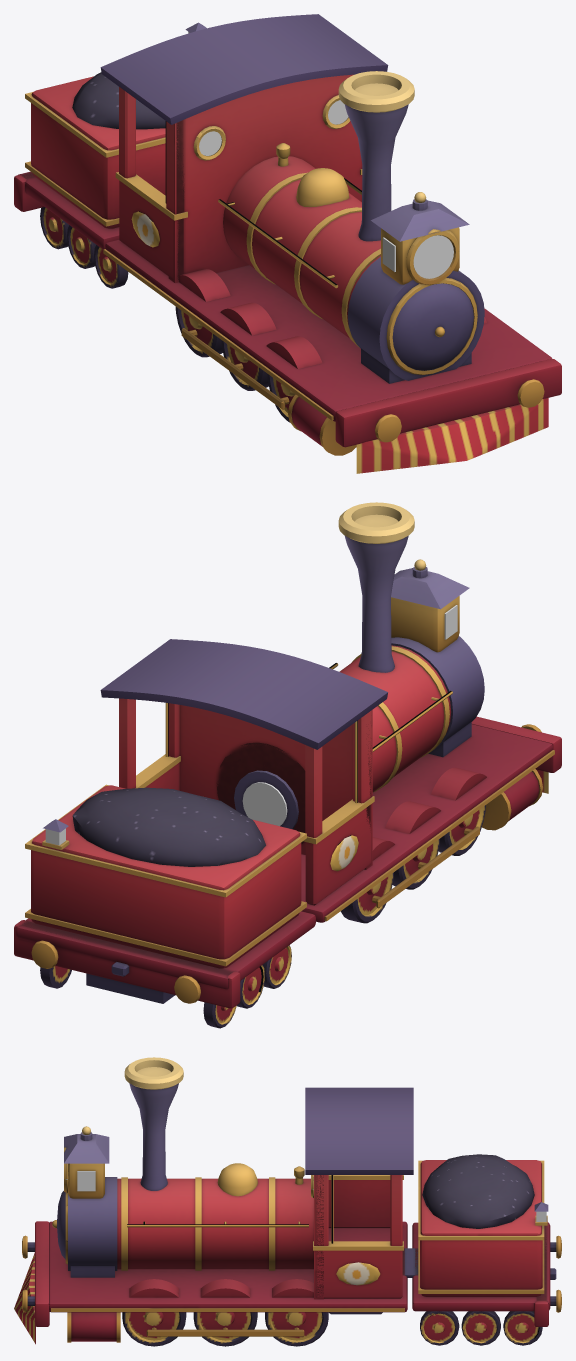
The model's file is train_engine.fbx.
3 views of the same model, one above another, from view 1: azimuth 30°, elevation 25°; view 2: azimuth 150°, elevation 25°; view 3: azimuth 270°, elevation 25° (orthographic). The views are drawn at different scales.
Parts seen in each view (by area): view 1: train_engine, train_engine_lamp_glow, train_engine_fire_glow; view 2: train_engine, train_engine_fire_glow, train_engine_lamp_glow; view 3: train_engine, train_engine_lamp_glow.
Part boxes in pixels (x1=…): train_engine: x1=14, y1=14, x2=561, y2=473; train_engine_lamp_glow: x1=188, y1=32, x2=453, y2=278; train_engine_fire_glow: x1=199, y1=100, x2=348, y2=155; train_engine: x1=14, y1=502, x2=561, y2=1028; train_engine_fire_glow: x1=242, y1=782, x2=287, y2=826; train_engine_lamp_glow: x1=45, y1=605, x2=457, y2=845; train_engine: x1=14, y1=1057, x2=561, y2=1346; train_engine_lamp_glow: x1=65, y1=1171, x2=546, y2=1221.
Size of the model in its own units: 814 by 1098 by 2228.
2 materials, 1 textured.
